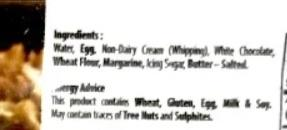ingredients: (49, 21, 276, 81)
